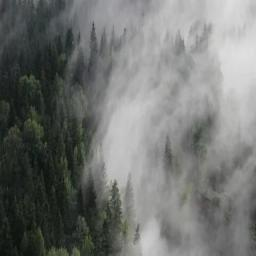Heavy smoke: (60, 0, 256, 255)
